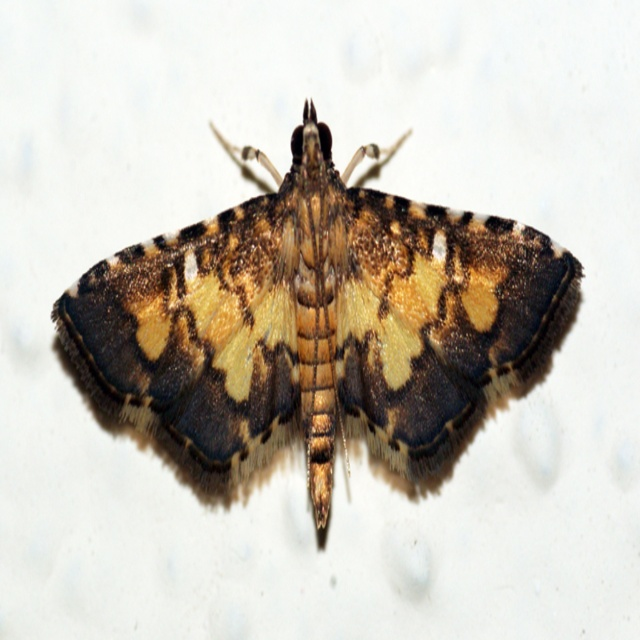Moths and butterflies: (50, 91, 587, 547)
